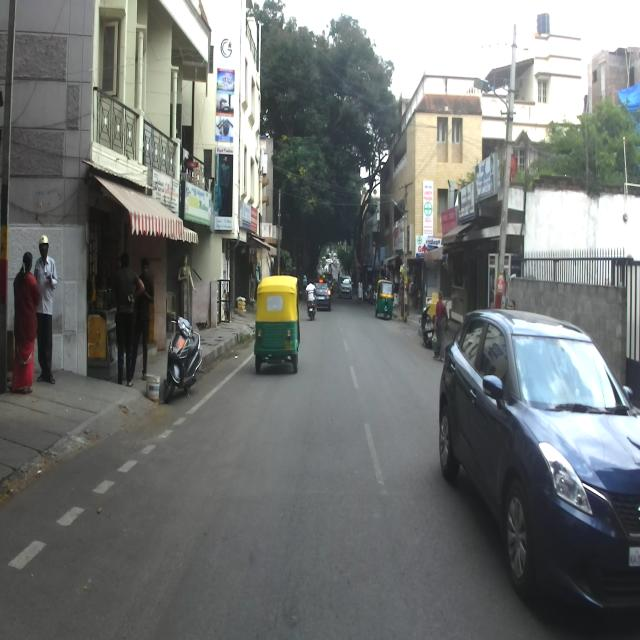auto ahead at: (255, 273, 300, 377)
car ahead at: (432, 309, 640, 635)
motorcycle ahead at: (160, 305, 205, 403)
